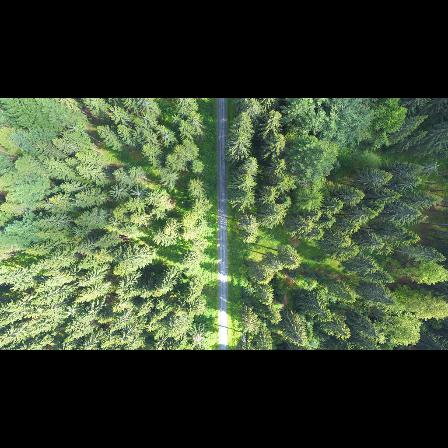Sick: (130, 186, 147, 202)
